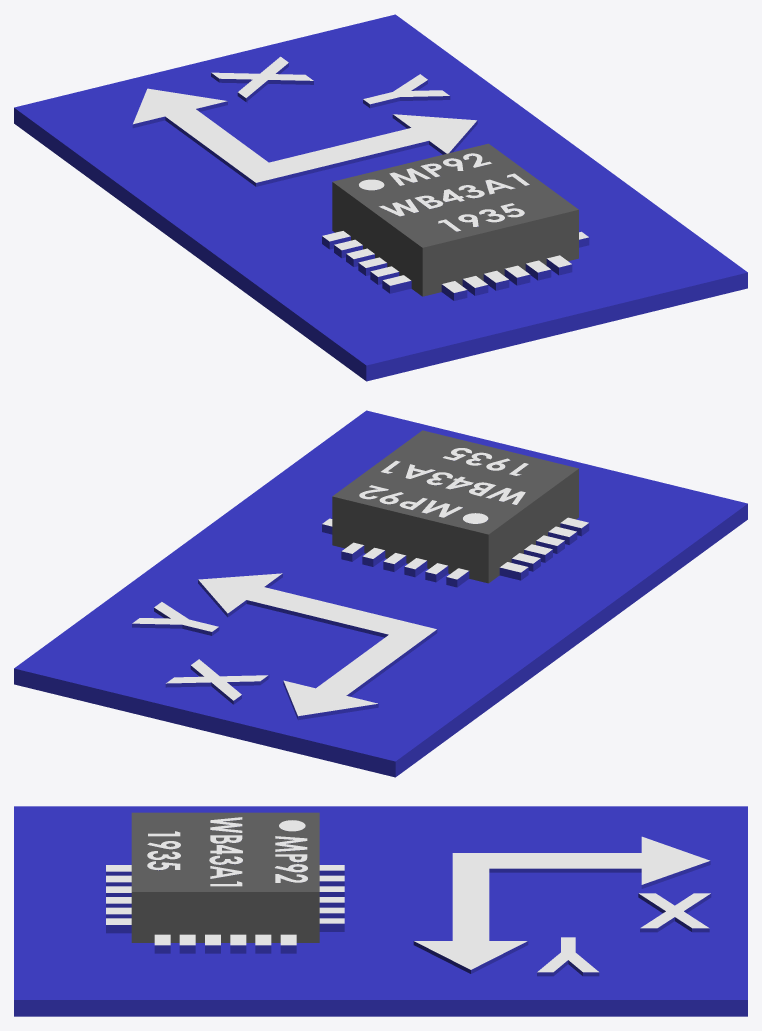
The model's file is model_mp9250-CetLn3MB.glb.
3 views of the same model, one above another, from view 1: azimuth 30°, elevation 25°; view 2: azimuth 150°, elevation 25°; view 3: azimuth 270°, elevation 25° (orthographic). The views are drawn at different scales.
Size of the model in its own units: 10 by 1.73 by 16.
